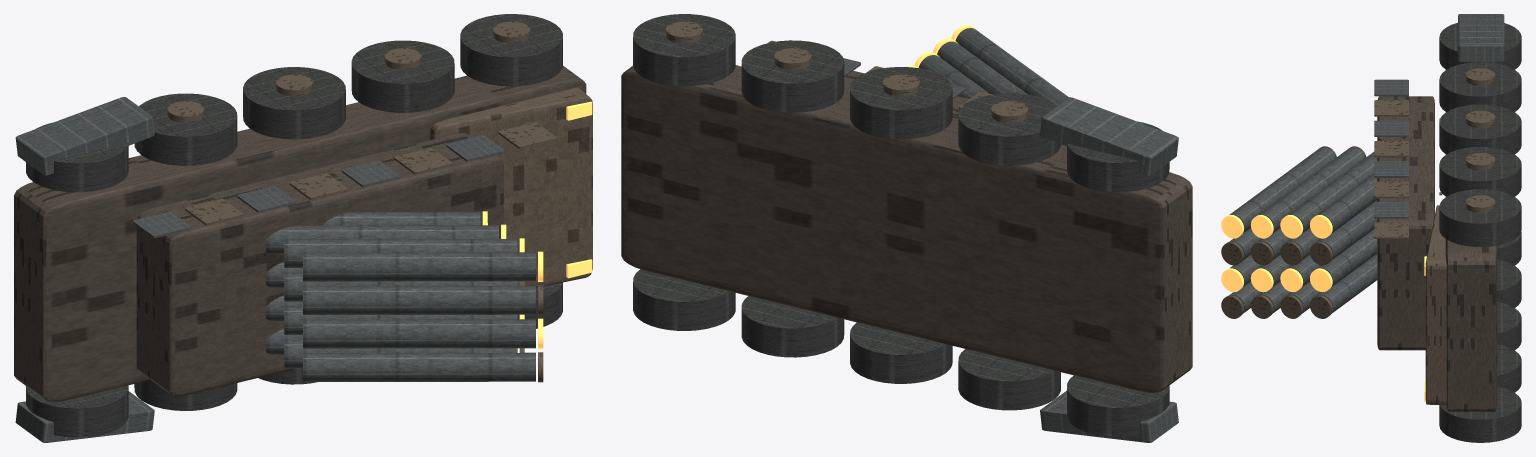
The model's file is d-u17-dominion-rocket-artillery-lod0.glb.
The picture shows the model from 3 angles, left to right: view 1: azimuth 30°, elevation 25°; view 2: azimuth 150°, elevation 25°; view 3: azimuth 270°, elevation 25°; orthographic projection. The views are drawn at different scales.
Parts seen in each view (by area): view 1: chassis_lower, upper_hull, chassis_nose, rocket_tube_14, rocket_tube_16, rocket_tube_13, rocket_tube_15, chassis_wheel_1_3, chassis_wheel_1_4, chassis_wheel_1_2, rocket_jack_1, chassis_wheel_1_1 (+23 smaller); view 2: chassis_lower, chassis_wheel_1_3, chassis_wheel_1_4, chassis_wheel_1_2, rocket_jack_1, chassis_wheel_1_1, chassis_wheel_-1_3, chassis_wheel_-1_1, chassis_wheel_-1_2, chassis_wheel_-1_4, chassis_wheel_-1_0, chassis_wheel_1_0 (+8 smaller); view 3: upper_hull, chassis_lower, chassis_nose, chassis_wheel_1_4, chassis_wheel_1_1, chassis_wheel_1_2, chassis_wheel_1_3, chassis_wheel_-1_4, rocket_jack_1, rocket_tube_16, rocket_tube_12, rocket_tube_8 (+46 smaller).
Part boxes in pixels (bbox=[...]): chassis_lower: bbox=[14, 66, 586, 401]; upper_hull: bbox=[136, 133, 503, 396]; chassis_nose: bbox=[430, 87, 592, 287]; rocket_tube_14: bbox=[303, 319, 535, 348]; rocket_tube_16: bbox=[303, 252, 535, 281]; rocket_tube_13: bbox=[303, 352, 535, 381]; rocket_tube_15: bbox=[303, 286, 535, 314]; chassis_wheel_1_3: bbox=[351, 40, 454, 112]; chassis_wheel_1_4: bbox=[460, 14, 562, 86]; chassis_wheel_1_2: bbox=[243, 67, 345, 139]; rocket_jack_1: bbox=[15, 97, 154, 175]; chassis_wheel_1_1: bbox=[134, 93, 237, 165]; chassis_lower: bbox=[621, 66, 1192, 392]; chassis_wheel_1_3: bbox=[741, 40, 844, 112]; chassis_wheel_1_4: bbox=[633, 14, 735, 86]; chassis_wheel_1_2: bbox=[850, 67, 952, 139]; rocket_jack_1: bbox=[1040, 97, 1178, 176]; chassis_wheel_1_1: bbox=[958, 93, 1060, 165]; chassis_wheel_-1_3: bbox=[741, 296, 844, 357]; chassis_wheel_-1_1: bbox=[958, 349, 1060, 410]; chassis_wheel_-1_2: bbox=[850, 322, 952, 383]; chassis_wheel_-1_4: bbox=[633, 269, 735, 330]; chassis_wheel_-1_0: bbox=[1067, 375, 1169, 436]; chassis_wheel_1_0: bbox=[1067, 121, 1169, 191]; upper_hull: bbox=[1377, 96, 1434, 350]; chassis_lower: bbox=[1445, 112, 1497, 411]; chassis_nose: bbox=[1425, 205, 1446, 405]; chassis_wheel_1_4: bbox=[1439, 189, 1521, 246]; chassis_wheel_1_1: bbox=[1439, 62, 1521, 111]; chassis_wheel_1_2: bbox=[1439, 104, 1521, 154]; chassis_wheel_1_3: bbox=[1439, 146, 1521, 196]; chassis_wheel_-1_4: bbox=[1439, 386, 1521, 442]; rocket_jack_1: bbox=[1458, 14, 1504, 61]; rocket_tube_16: bbox=[1229, 146, 1336, 233]; rocket_tube_12: bbox=[1259, 146, 1366, 233]; rocket_tube_8: bbox=[1288, 152, 1377, 233].
Size of what is drawn, in the model's own units: 8.52 by 4.7 by 5.11.
6 materials, 6 textured.
